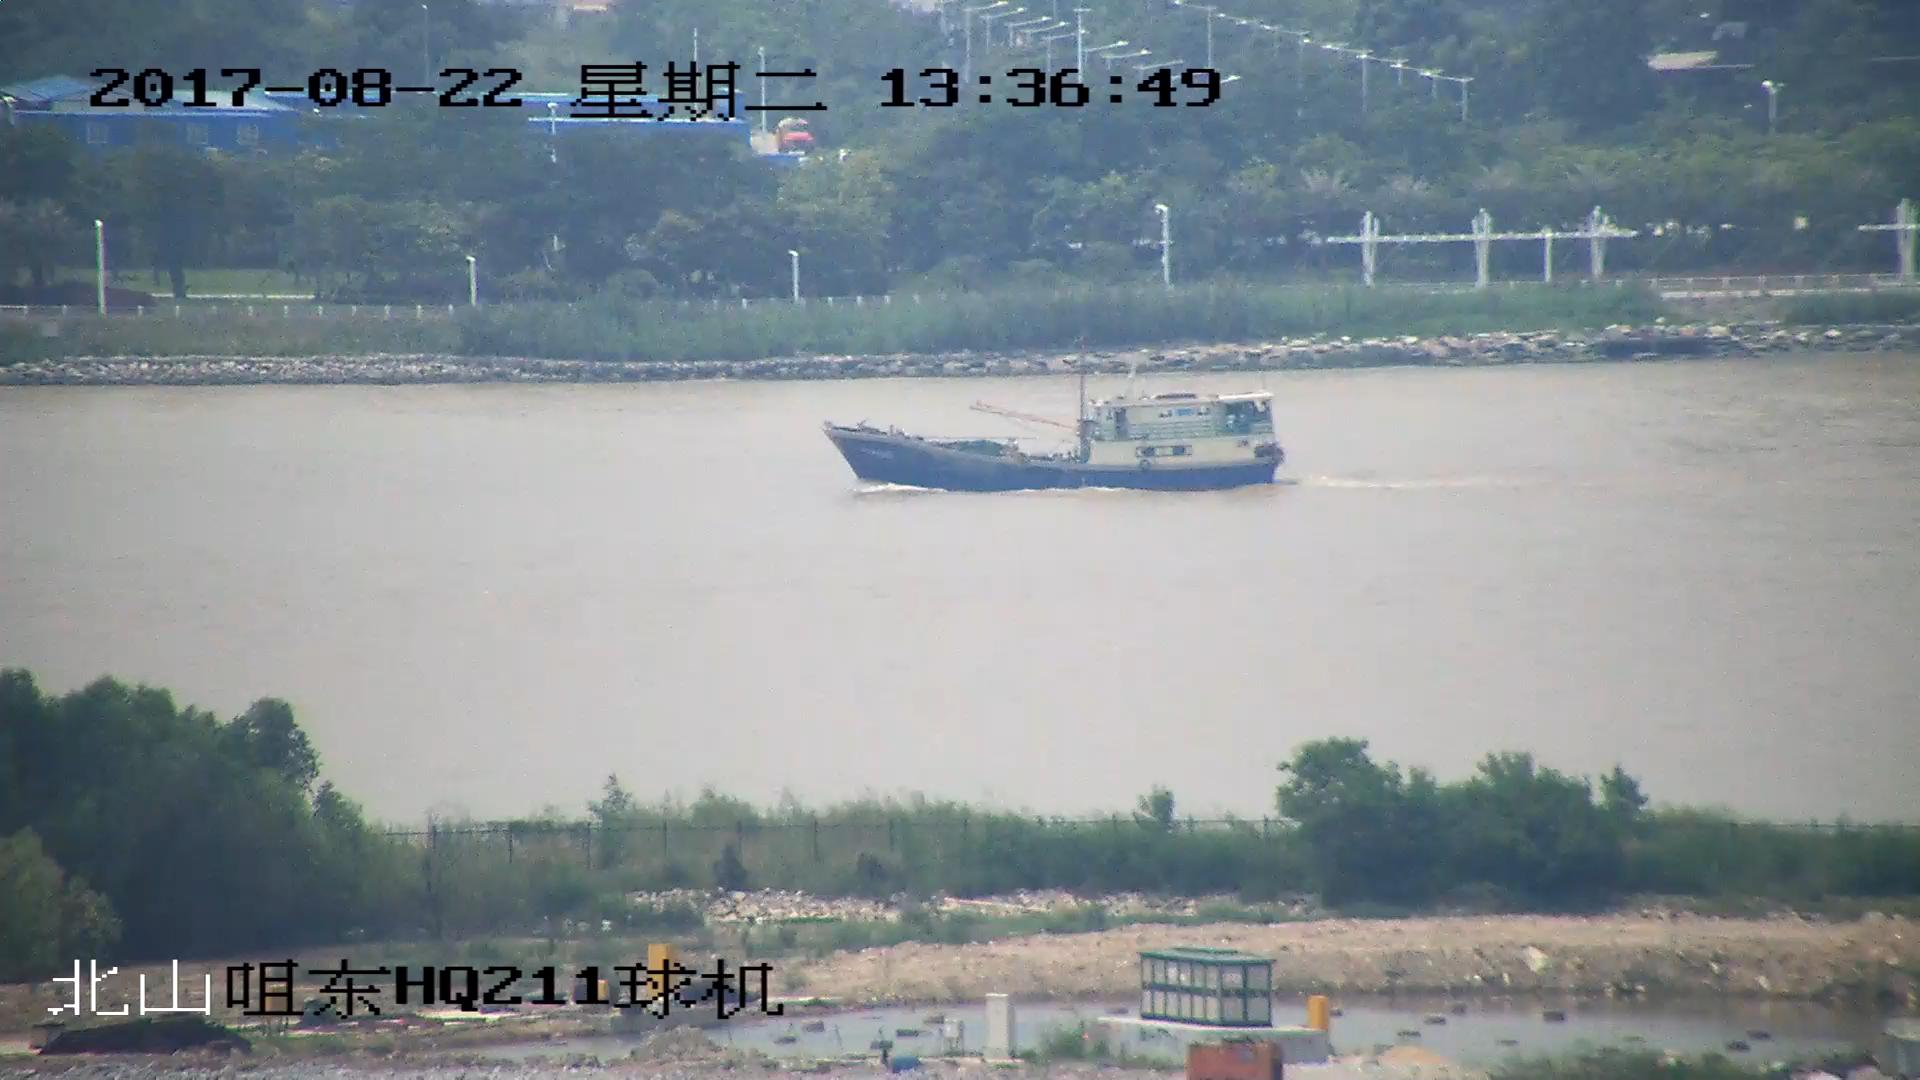fishing boat: (830, 358, 1280, 496)
